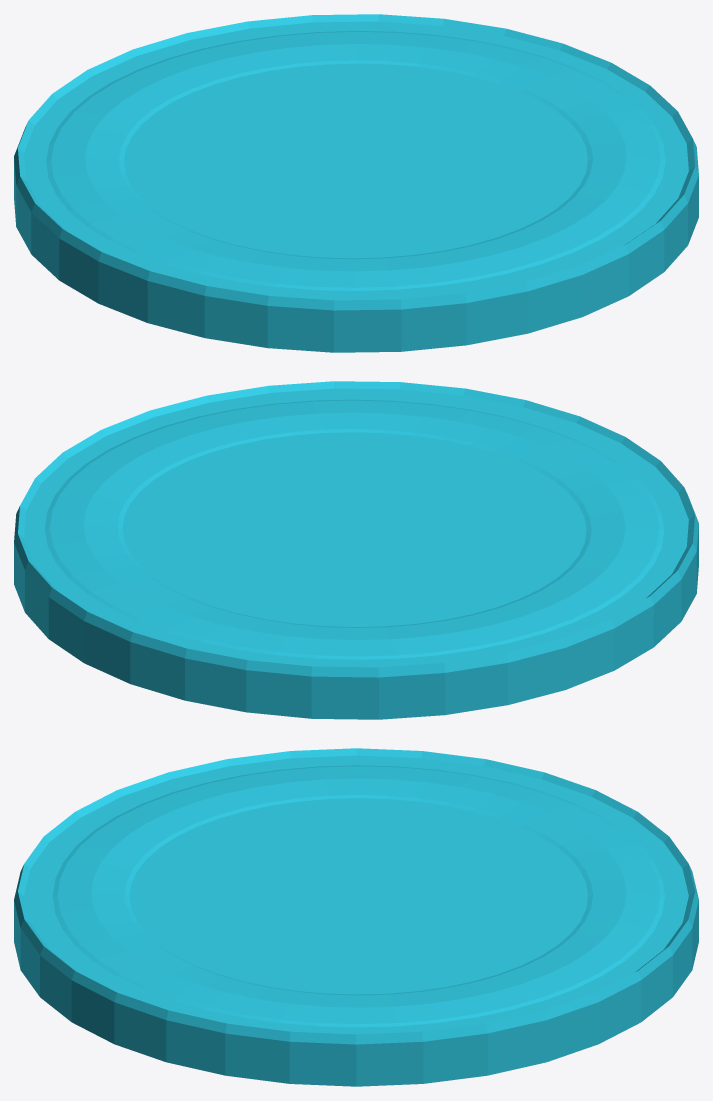
File: jumpmodel.fbx
3 renders of one model, top to bottom at view 1: azimuth 30°, elevation 25°; view 2: azimuth 150°, elevation 25°; view 3: azimuth 270°, elevation 25°, orthographic.
Visible parts, largest first — view 1: Cylinder; view 2: Cylinder; view 3: Cylinder.
Part boxes in pixels (x1,y1,x2,y2): Cylinder: (14,14,698,352); Cylinder: (14,381,698,719); Cylinder: (14,748,698,1086).
Bounding box in the file's own units: 200 × 16.31 × 200.
